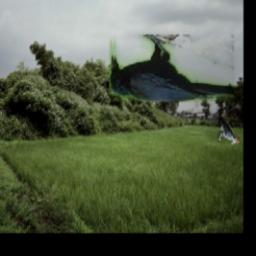Crow: (109, 35, 234, 102)
Woodpecker: (219, 119, 240, 145)
